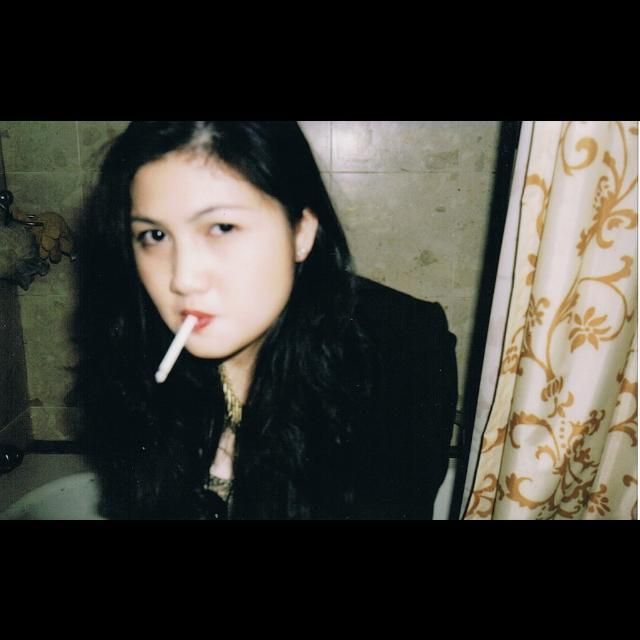rokok: (148, 312, 202, 384)
